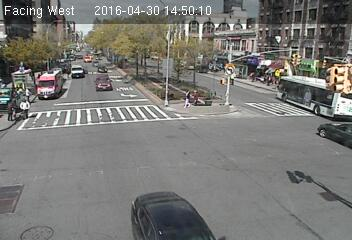neg: (264, 108, 291, 144), (234, 92, 256, 122), (286, 156, 307, 183), (182, 194, 200, 219), (47, 76, 63, 97), (79, 72, 95, 93), (115, 69, 131, 90), (222, 142, 237, 163), (333, 7, 348, 27), (154, 46, 167, 63), (29, 25, 40, 40), (25, 79, 35, 91)
pos: (1, 98, 20, 124), (14, 95, 33, 120), (180, 89, 195, 108)
